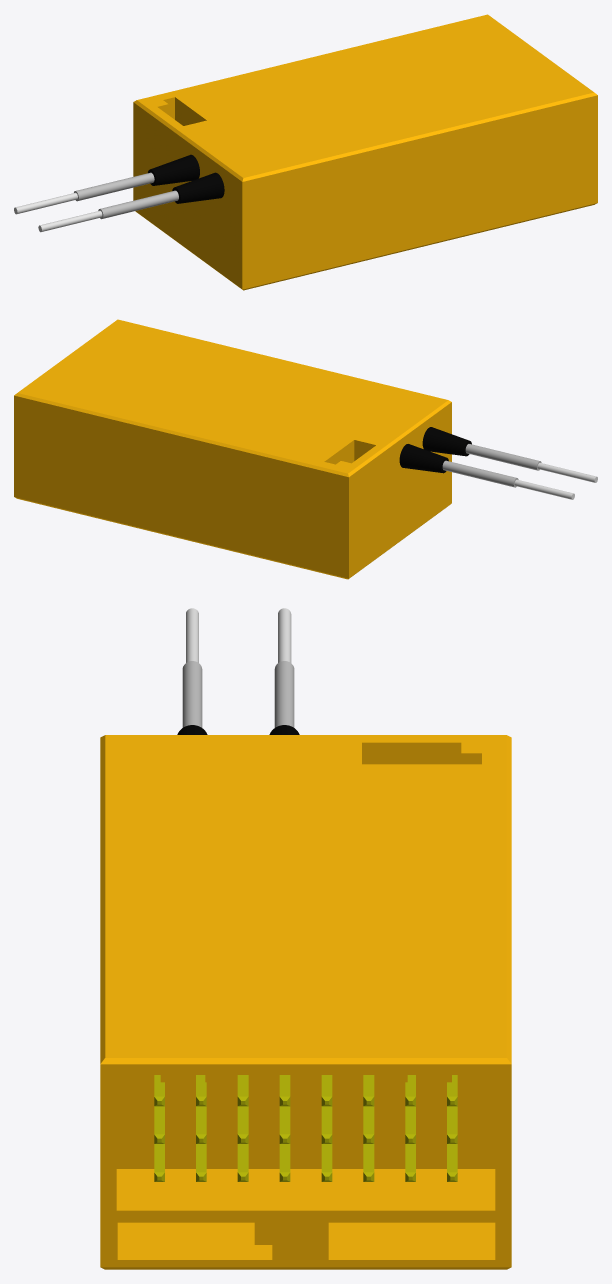
File: CM703_reciver.glb
3 views of the same model, one above another, from view 1: azimuth 30°, elevation 25°; view 2: azimuth 150°, elevation 25°; view 3: azimuth 270°, elevation 25° (orthographic). The views are drawn at different scales.
Parts seen in each view (by area): view 1: Part 1; view 2: Part 1; view 3: Part 1.
Part boxes in pixels (left/top/right/bottom): Part 1: left=14, top=14, right=597, bottom=290; Part 1: left=14, top=319, right=597, bottom=579; Part 1: left=100, top=608, right=511, bottom=1269.
Size of the model in its own units: 0.0705 by 0.0142 by 0.025.
